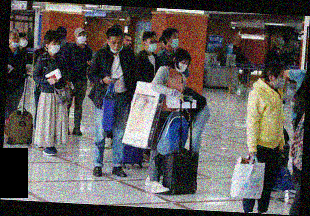mask_weared_incorrect: (109, 37, 122, 55), (9, 34, 19, 49)
with_mask: (273, 71, 286, 91), (145, 36, 158, 54), (175, 58, 189, 74), (75, 32, 88, 46), (49, 40, 60, 54), (169, 34, 179, 49), (18, 36, 28, 48)
without_mask: (122, 36, 133, 49)
